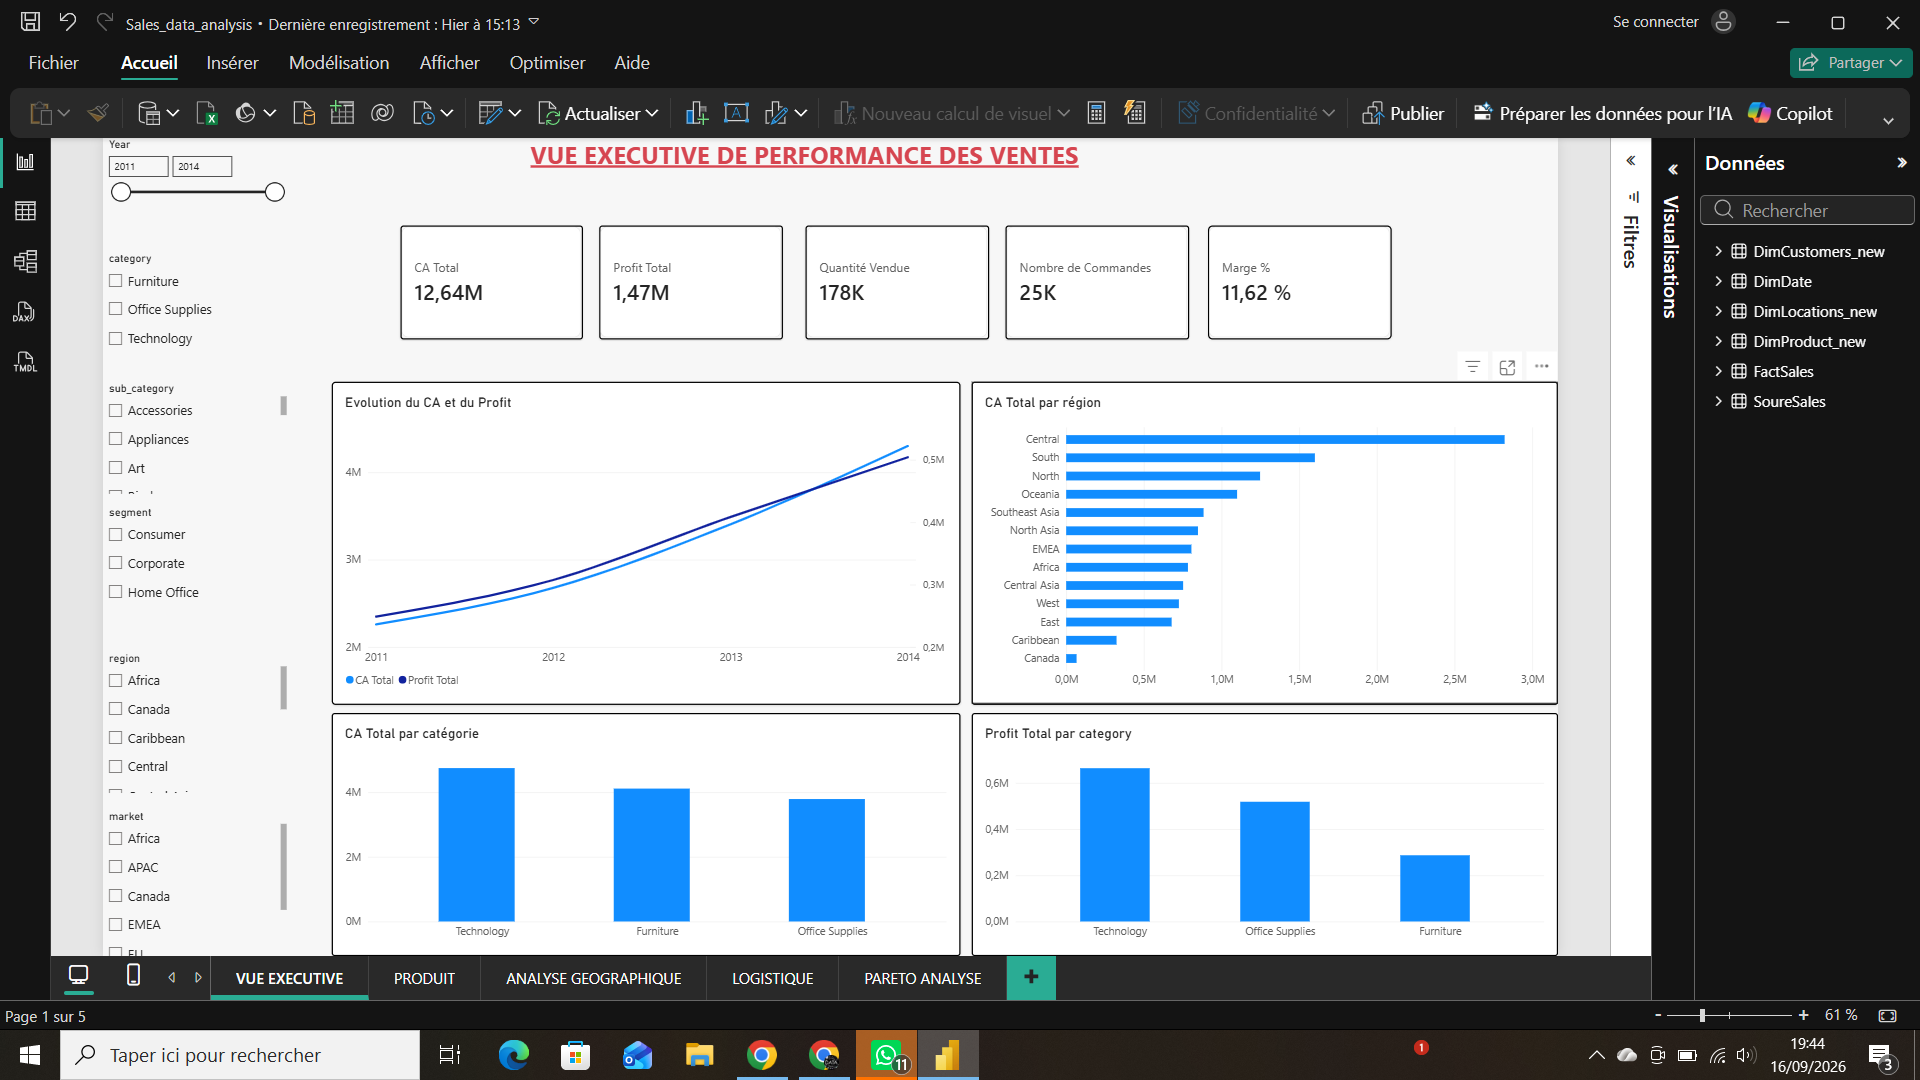

This screenshot's page, from the dashboard's own definition file:
{"tool":"powerbi","page":{"name":"VUE EXECUTIVE","canvas":[1920,1080],"ordinal":0},"visuals":[{"type":"cardVisual","fields":{"Data":["FactSales.CA Total"]},"box":[393.1,115.3,240.8,150.3],"z":0},{"type":"cardVisual","fields":{"Data":["FactSales.Profit Total"]},"box":[654.5,115.3,242,150],"z":1000},{"type":"cardVisual","fields":{"Data":["FactSales.Quantité Vendue"]},"box":[926.2,115.1,242,150],"z":2000},{"type":"cardVisual","fields":{"Data":["FactSales.Nombre de Commandes"]},"box":[1191.3,115.1,242,150],"z":3000},{"type":"cardVisual","fields":{"Data":["FactSales.Marge %"]},"box":[1458.1,115.1,242,150],"z":4000},{"type":"lineChart","title":"Evolution du CA et du Profit ","fields":{"Category":["DimDate.Date.Variation.Hiérarchie de dates.Année","DimDate.Date.Variation.Hiérarchie de dates.Trimestre","DimDate.Date.Variation.Hiérarchie de dates.Mois","DimDate.Date.Variation.Hiérarchie de dates.Jour"],"Y":["FactSales.CA Total"],"Y2":["FactSales.Profit Total"]},"box":[302.6,321.1,829.5,426.1],"z":5000},{"type":"clusteredColumnChart","title":"CA Total par catégorie","fields":{"Category":["DimProduct_new.category"],"Y":["FactSales.CA Total"]},"box":[302.6,759.5,829.5,321.1],"z":6000},{"type":"clusteredColumnChart","fields":{"Category":["DimProduct_new.category"],"Y":["FactSales.Profit Total"]},"box":[1146.5,759.5,773.9,321.1],"z":7000},{"type":"clusteredBarChart","title":"CA Total par région","fields":{"Y":["FactSales.CA Total"],"Category":["DimLocations_new.region"]},"box":[1146.5,321.1,773.9,426.1],"z":8000},{"type":"textbox","box":[537.2,0,776.2,99.4],"z":9000},{"type":"slicer","fields":{"Values":["DimDate.Year"]},"box":[0,0,242.4,150],"z":10000},{"type":"slicer","fields":{"Values":["DimProduct_new.category"]},"box":[0,150,242.4,151.7],"z":11000},{"type":"slicer","fields":{"Values":["DimProduct_new.sub_category"]},"box":[0,320.9,242.4,148.3],"z":12000},{"type":"slicer","fields":{"Values":["DimCustomers_new.segment"]},"box":[0,484.9,242.4,176.2],"z":13000},{"type":"slicer","fields":{"Values":["DimLocations_new.region"]},"box":[0,678.5,242.4,186.6],"z":14000},{"type":"slicer","fields":{"Values":["DimLocations_new.market"]},"box":[0,886,242.4,193.6],"z":15000}]}

Visuals, with their boxes on the page's 1920x1080 design canvas (x1, y1, x2, y2). These are canvas units, not pixel positions in the 1920x1080 screenshot, which may show the page scaled, cropped or inside an application window:
cardVisual - FactSales.CA Total: 393 115 634 266
cardVisual - FactSales.Profit Total: 654 115 896 265
cardVisual - FactSales.Quantité Vendue: 926 115 1168 265
cardVisual - FactSales.Nombre de Commandes: 1191 115 1433 265
cardVisual - FactSales.Marge %: 1458 115 1700 265
"Evolution du CA et du Profit " lineChart: 303 321 1132 747
"CA Total par catégorie" clusteredColumnChart: 303 760 1132 1081
clusteredColumnChart - DimProduct_new.category x FactSales.Profit Total: 1146 760 1920 1081
"CA Total par région" clusteredBarChart: 1146 321 1920 747
textbox: 537 0 1313 99
slicer - DimDate.Year: 0 0 242 150
slicer - DimProduct_new.category: 0 150 242 302
slicer - DimProduct_new.sub_category: 0 321 242 469
slicer - DimCustomers_new.segment: 0 485 242 661
slicer - DimLocations_new.region: 0 678 242 865
slicer - DimLocations_new.market: 0 886 242 1080
